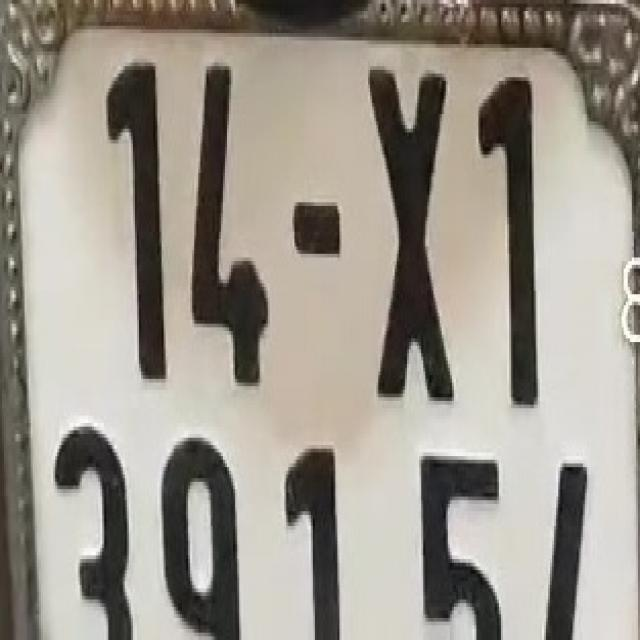1: (472, 59, 556, 412), (96, 40, 178, 390)
4: (184, 48, 280, 397)
X: (366, 77, 460, 390)
